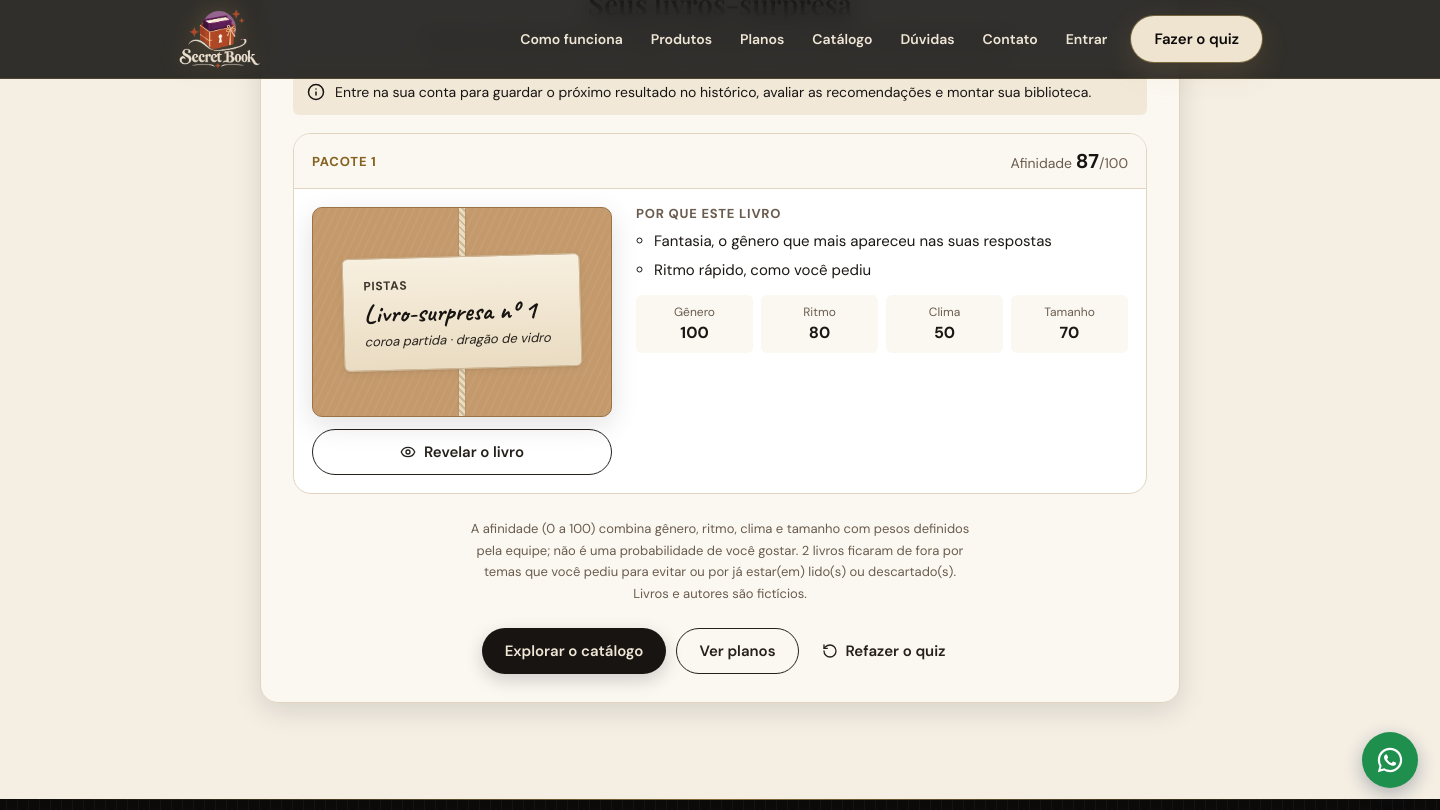
Test case: Resultado do quiz › mostra o perfil, as preferências e embrulha o livro até ser revelado
The image size is (1440, 810).
(page scrolled)
Expected: the text "87" is shown, [1076,148,1099,174]
Expected: the text "coroa partida · dragão de vidro" is shown, [364,328,561,352]
Click the button "Revelar o livro": (462, 452) [312,429,612,475]
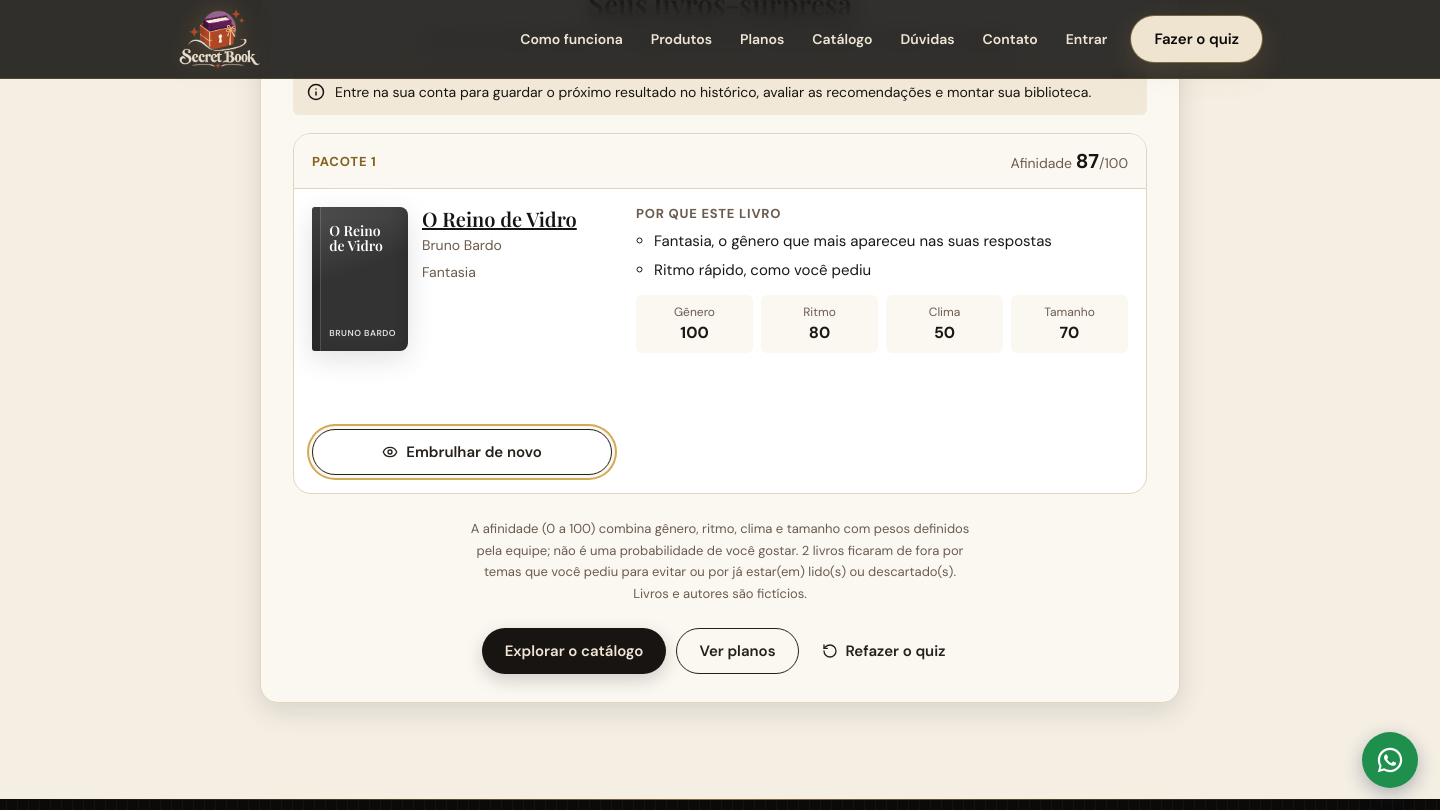
Expected: the text "2 livros ficaram de fora" is shown, [484,542,964,580]
Expected: the 1st text "Bruno Bardo" is shown, [422,236,502,254]
Expected: the button "Embrulhar de novo" is expanded, [312,429,612,475]
